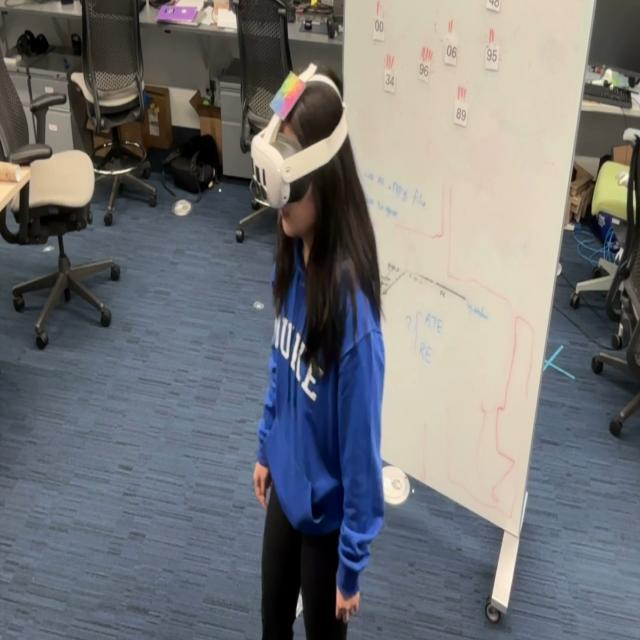Headset: (250, 73, 348, 209)
Marker: (268, 68, 306, 123)
